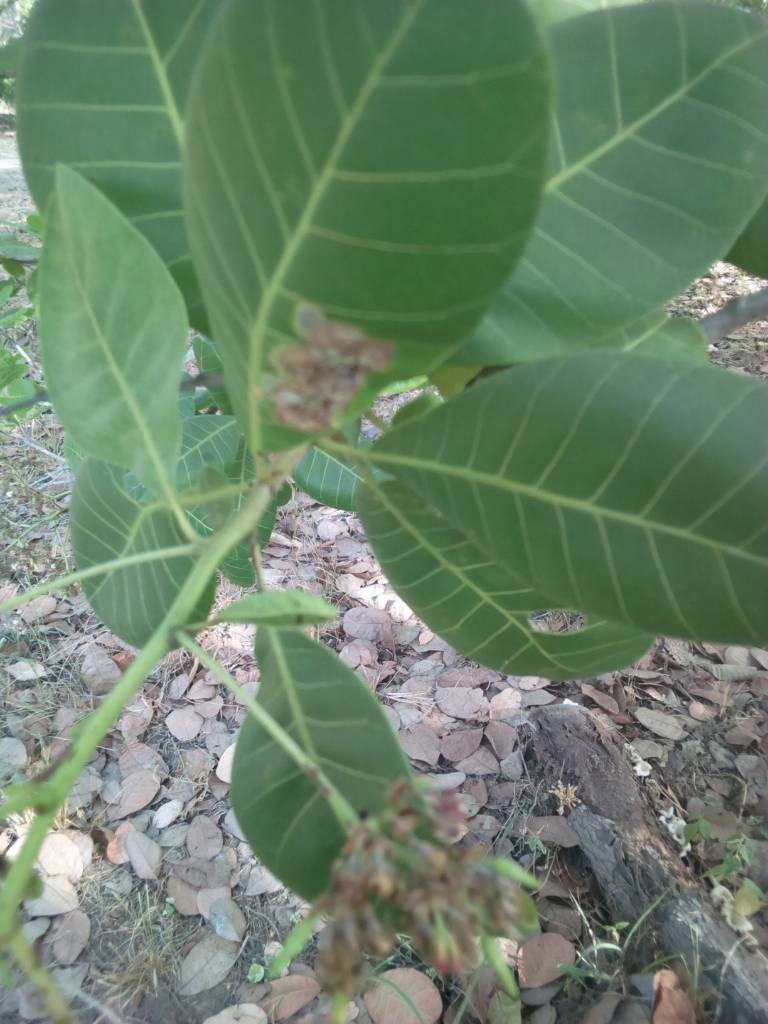Dysdercus wolkerii: (133, 1, 540, 507)
